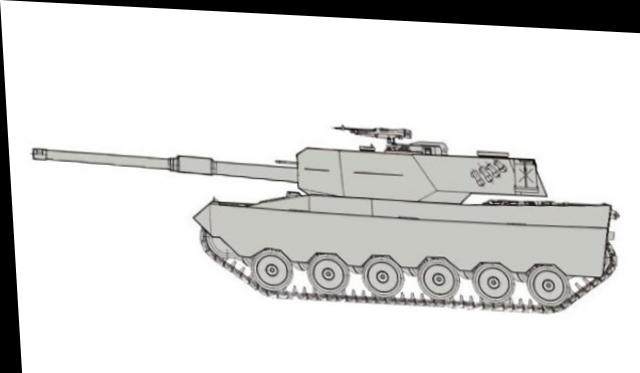tank: (187, 106, 616, 319)
